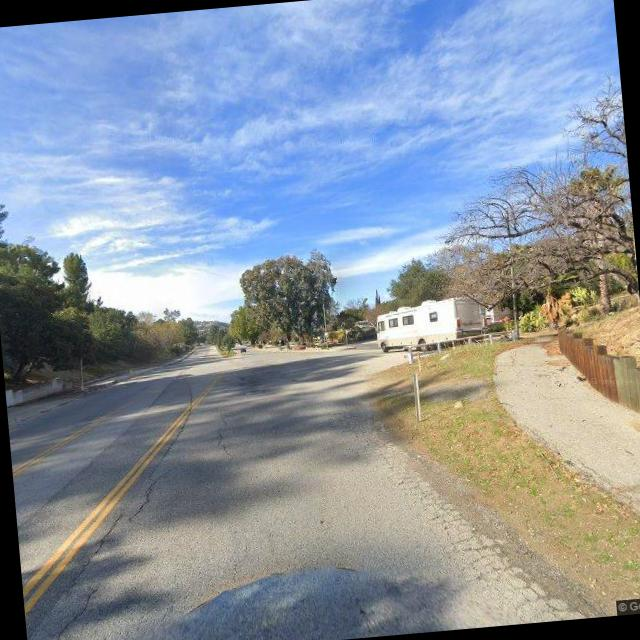pothole: (61, 472, 171, 575), (40, 586, 103, 640), (212, 417, 236, 467)
